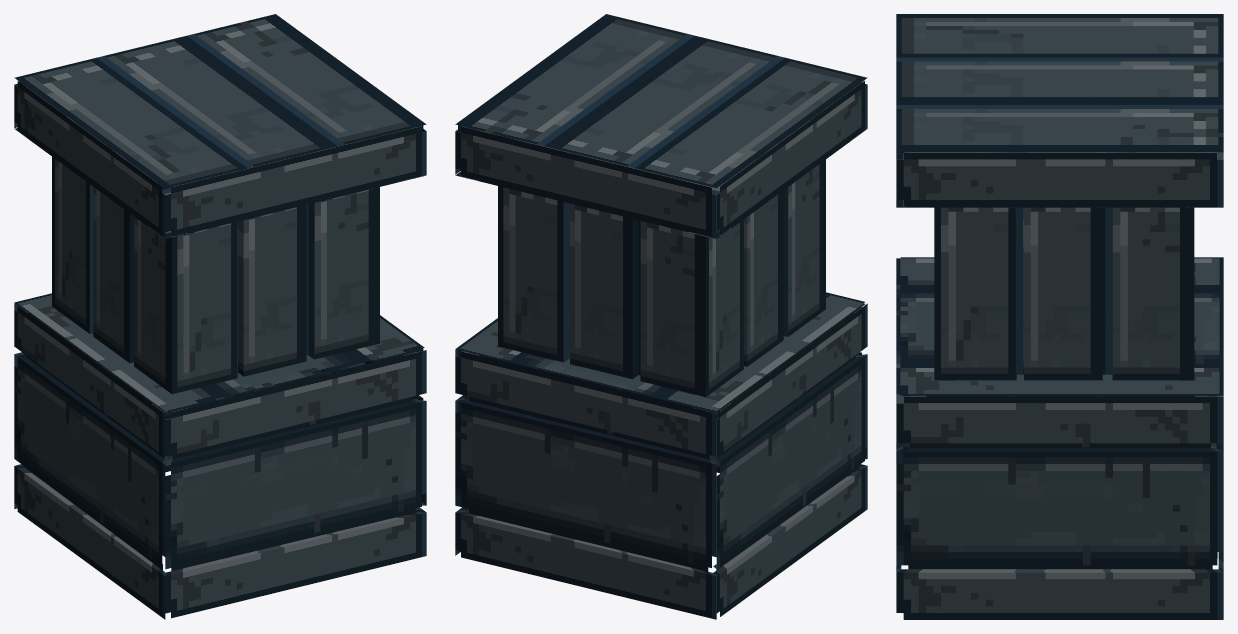
File: Platform2.fbx
The picture shows the model from 3 angles, left to right: view 1: azimuth 30°, elevation 25°; view 2: azimuth 150°, elevation 25°; view 3: azimuth 270°, elevation 25°; orthographic projection. The views are drawn at different scales.
Parts seen in each view (by area): view 1: PixelArt11.001; view 2: PixelArt11.001; view 3: PixelArt11.001.
Part boxes in pixels (x1=…): PixelArt11.001: x1=14, y1=14, x2=426, y2=619; PixelArt11.001: x1=455, y1=14, x2=867, y2=619; PixelArt11.001: x1=896, y1=14, x2=1223, y2=619.
Size of the model in its own units: 42.95 by 67.74 by 42.95.
